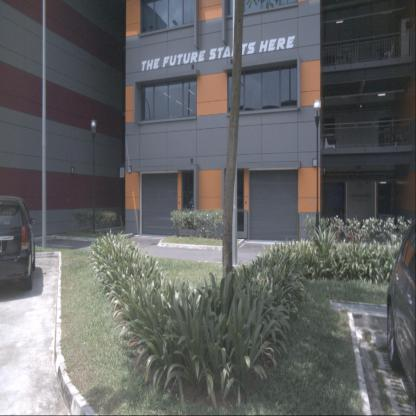human-pedestrian-adult: (184, 188, 187, 204)
vehicle-car: (386, 219, 416, 399), (0, 196, 35, 290)
